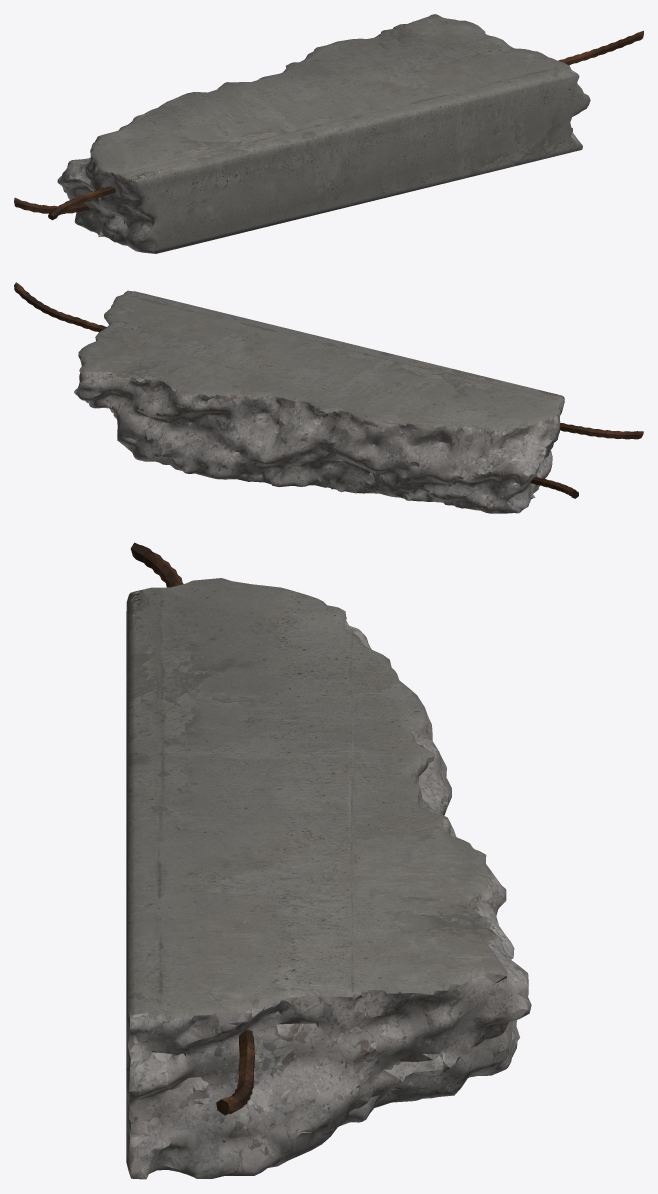
File: concrete_chunk_b.glb
3 renders of one model, top to bottom at view 1: azimuth 30°, elevation 25°; view 2: azimuth 150°, elevation 25°; view 3: azimuth 270°, elevation 25°, orthographic. The views are drawn at different scales.
Visible parts, largest first — view 1: concrete_chunk_b, rebar; view 2: concrete_chunk_b, rebar; view 3: concrete_chunk_b, rebar.
Boxes of the visible parts, x1=… form: concrete_chunk_b: x1=57, y1=14, x2=590, y2=253; rebar: x1=14, y1=30, x2=643, y2=220; concrete_chunk_b: x1=74, y1=290, x2=564, y2=513; rebar: x1=14, y1=282, x2=643, y2=498; concrete_chunk_b: x1=126, y1=578, x2=531, y2=1179; rebar: x1=130, y1=542, x2=346, y2=1115.
Size of the model in its own units: 1.91 by 0.243 by 0.5523.
3 materials, 3 textured.
